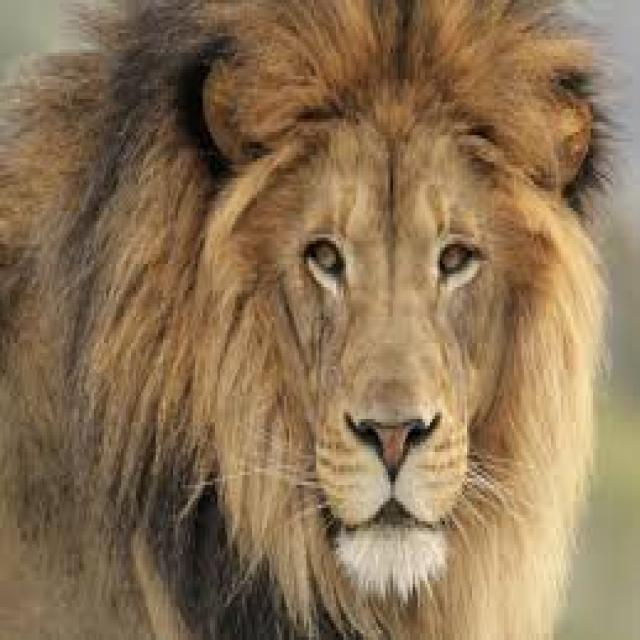Lion: (0, 0, 623, 637)
